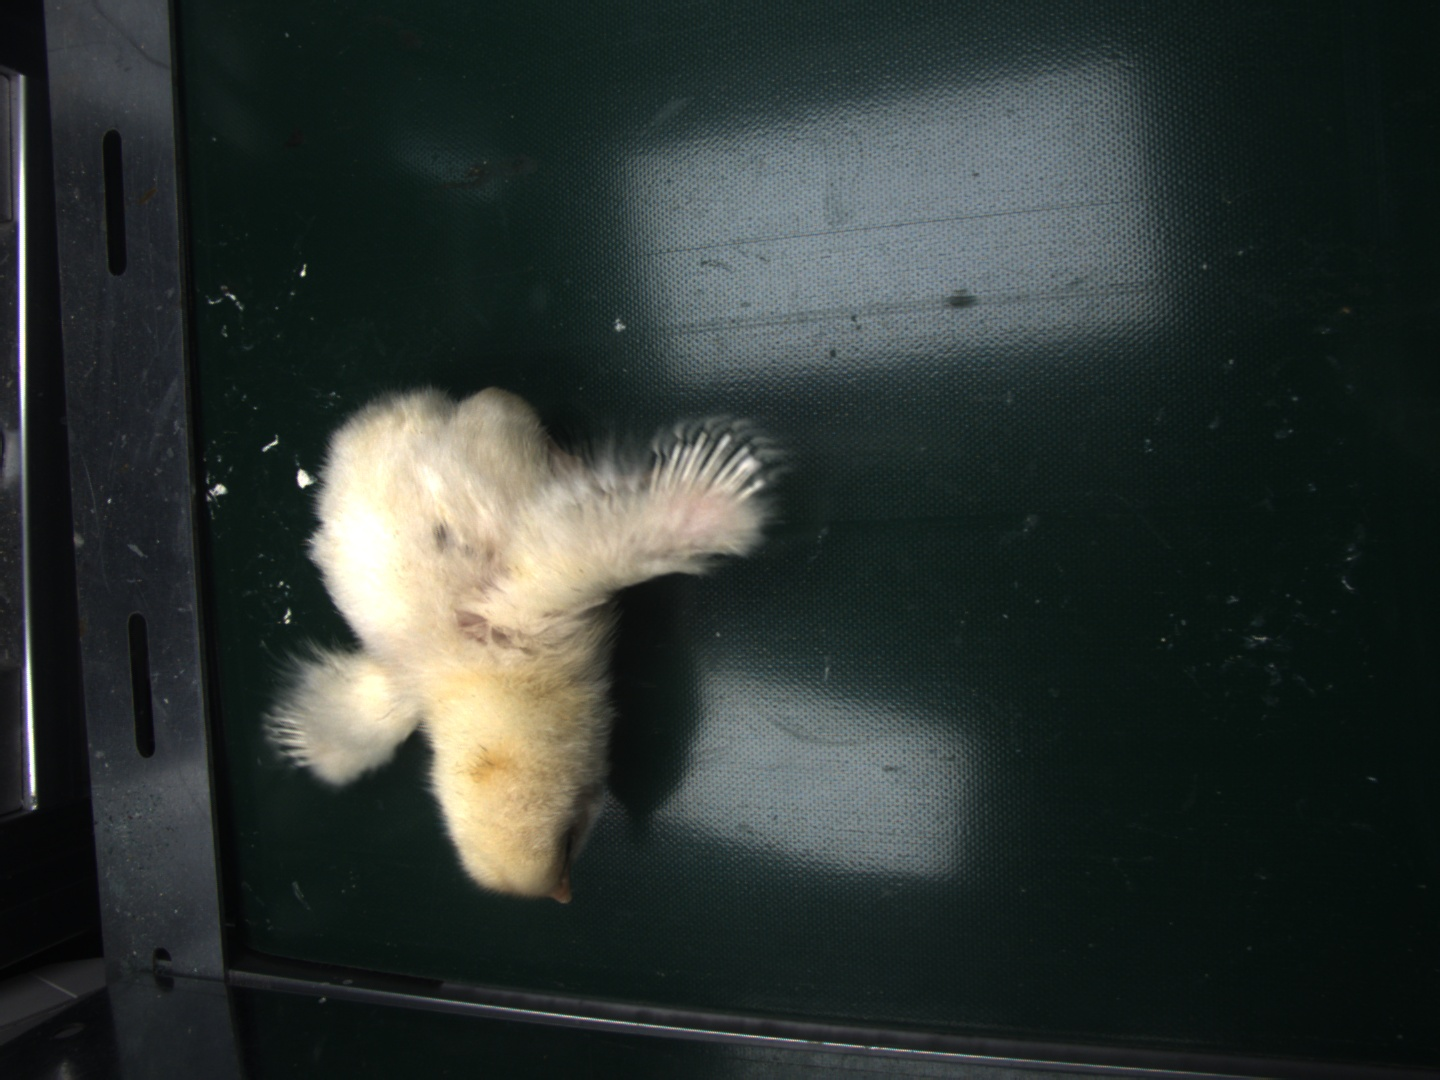male: (657, 427, 760, 498)
